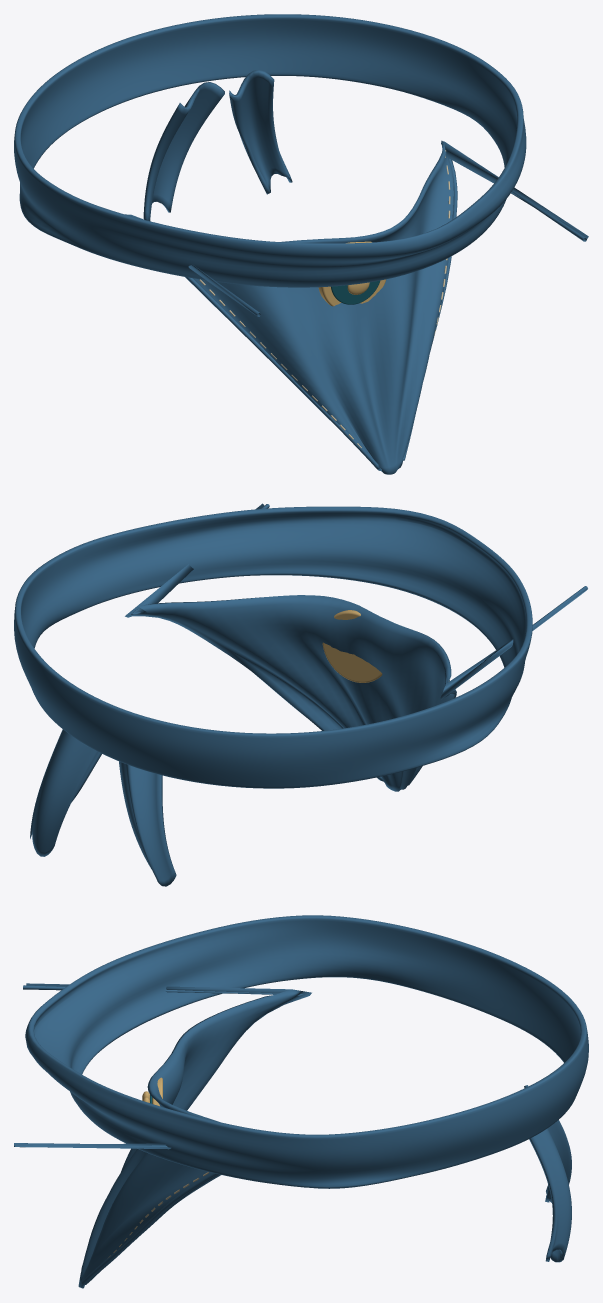
File: nemo_travel_outfit.glb
3 renders of one model, top to bottom at view 1: azimuth 30°, elevation 25°; view 2: azimuth 150°, elevation 25°; view 3: azimuth 270°, elevation 25°, orthographic.
Parts seen in each view (by area): view 1: nemo_travel_outfit__WovenCloth_TravelBlue, nemo_travel_outfit__SatinBrass_PawBrooch, nemo_travel_outfit__Enamel_InsetShadow; view 2: nemo_travel_outfit__WovenCloth_TravelBlue, nemo_travel_outfit__SatinBrass_PawBrooch; view 3: nemo_travel_outfit__WovenCloth_TravelBlue.
Boxes of the visible parts, left/top/right/bottom form: nemo_travel_outfit__WovenCloth_TravelBlue: left=14, top=14, right=588, bottom=474; nemo_travel_outfit__SatinBrass_PawBrooch: left=318, top=241, right=386, bottom=306; nemo_travel_outfit__Enamel_InsetShadow: left=331, top=280, right=380, bottom=304; nemo_travel_outfit__WovenCloth_TravelBlue: left=14, top=503, right=587, bottom=886; nemo_travel_outfit__SatinBrass_PawBrooch: left=322, top=610, right=382, bottom=682; nemo_travel_outfit__WovenCloth_TravelBlue: left=14, top=915, right=588, bottom=1288.
Size of the model in its own units: 1.01 by 0.5649 by 1.1.
